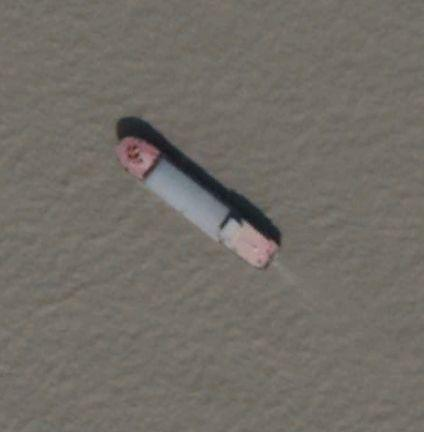Ships: (116, 134, 282, 300)
